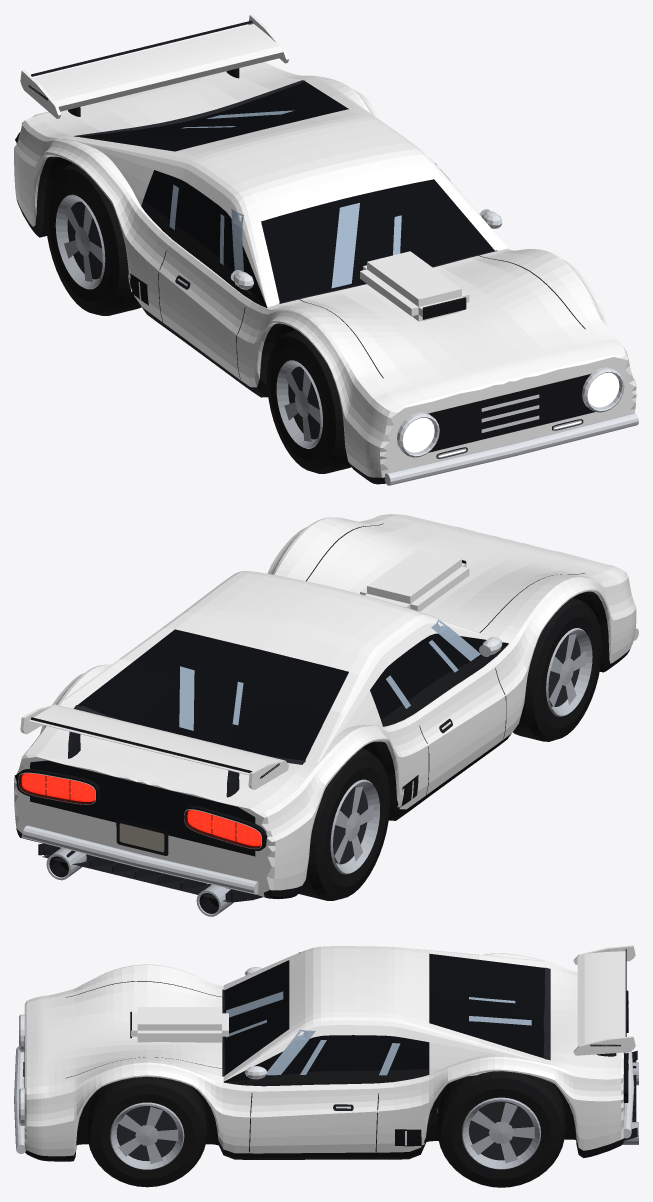
The model's file is muscle.glb.
The picture shows the model from 3 angles, top to bottom: view 1: azimuth 30°, elevation 25°; view 2: azimuth 150°, elevation 25°; view 3: azimuth 270°, elevation 25°; orthographic projection. The views are drawn at different scales.
Parts seen in each view (by area): view 1: body, cabine, asa, wheel_rr, wheel_fr, entradas_frente, tomada_capo, reflexo_vidro, divisor, farol_redondo_r, farol_redondo_l, asa_placas; view 2: body, cabine, wheel_rr, wheel_fr, painel_traseiro, asa, lamp_tail, tomada_capo, parachoque_tras, difusor, reflexo_vidro, placa (+3 smaller); view 3: body, cabine, wheel_rl, wheel_fl, asa, tomada_capo, reflexo_vidro, asa_placas, divisor, entrada_ar_l, parachoque_tras, lamp_tail (+1 smaller).
Part boxes in pixels (x1,y1,x2,y2): body: [14, 62, 636, 484]; cabine: [63, 76, 508, 307]; asa: [31, 20, 283, 111]; wheel_rr: [45, 163, 141, 315]; wheel_fr: [267, 330, 350, 473]; entradas_frente: [428, 373, 595, 452]; tomada_capo: [360, 251, 469, 321]; reflexo_vidro: [169, 110, 450, 288]; divisor: [384, 413, 638, 485]; farol_redondo_r: [397, 412, 439, 457]; farol_redondo_l: [582, 367, 624, 412]; asa_placas: [20, 14, 288, 118]; body: [14, 514, 636, 899]; cabine: [63, 571, 508, 762]; wheel_rr: [299, 748, 390, 900]; wheel_fr: [513, 598, 602, 741]; painel_traseiro: [30, 760, 255, 856]; asa: [29, 705, 282, 775]; lamp_tail: [14, 769, 267, 850]; tomada_capo: [360, 548, 469, 611]; parachoque_tras: [22, 825, 258, 894]; difusor: [38, 843, 262, 902]; reflexo_vidro: [179, 619, 480, 730]; placa: [116, 819, 168, 855]; body: [24, 953, 623, 1161]; cabine: [223, 946, 544, 1086]; wheel_rl: [437, 1071, 565, 1187]; wheel_fl: [87, 1076, 207, 1187]; asa: [577, 949, 626, 1045]; tomada_capo: [130, 1007, 228, 1042]; reflexo_vidro: [226, 952, 531, 1075]; asa_placas: [573, 945, 635, 1055]; divisor: [14, 1046, 25, 1153]; entrada_ar_l: [395, 1107, 438, 1146]; parachoque_tras: [623, 1051, 634, 1138]; lamp_tail: [623, 990, 628, 1102].
Bounding box in the file's own units: 1.98 × 1.29 × 4.59.
